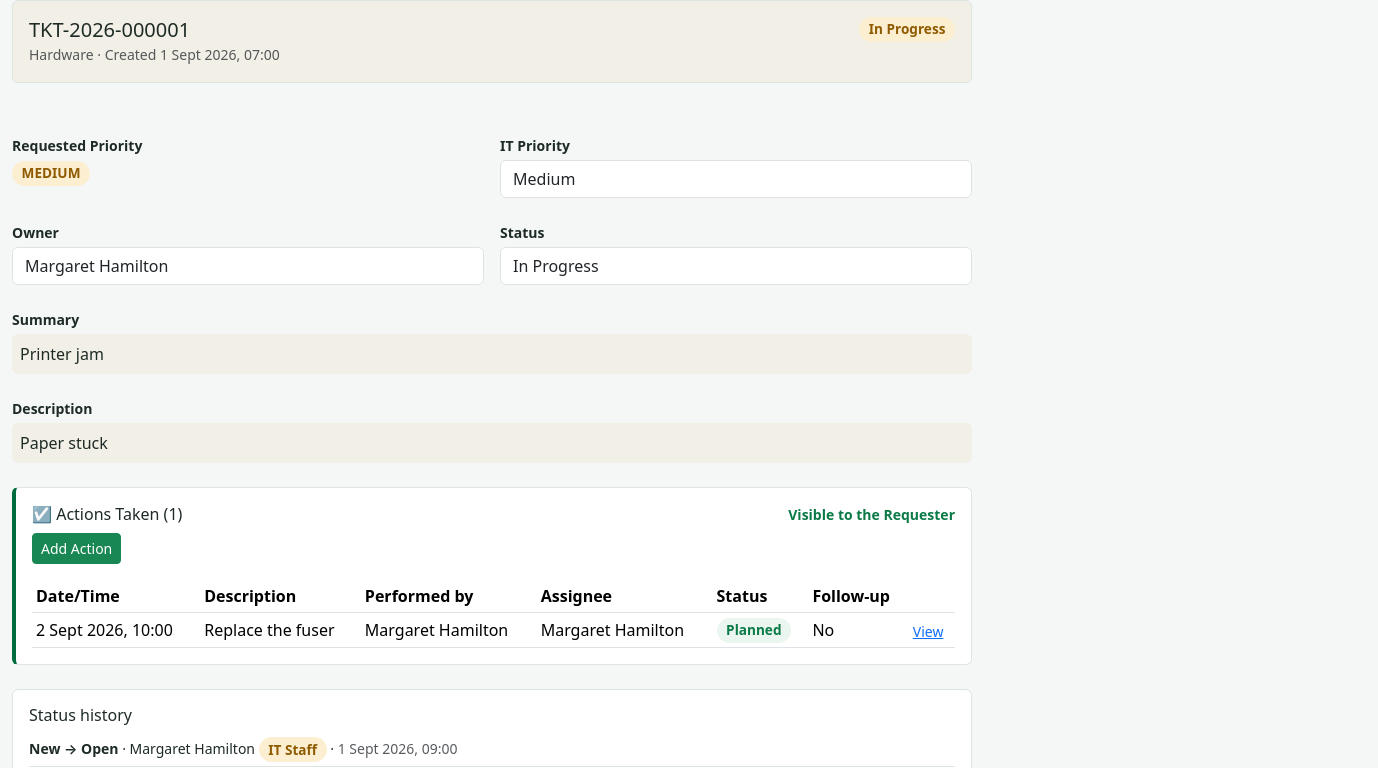
Test case: Ticket workflow controls › UI-18 refreshes the badge, the options, and the history after a successful change, and announces it
Select "Waiting for Requester" in the dropdown labelled "Status" at (736, 266), box [500,247,972,285]
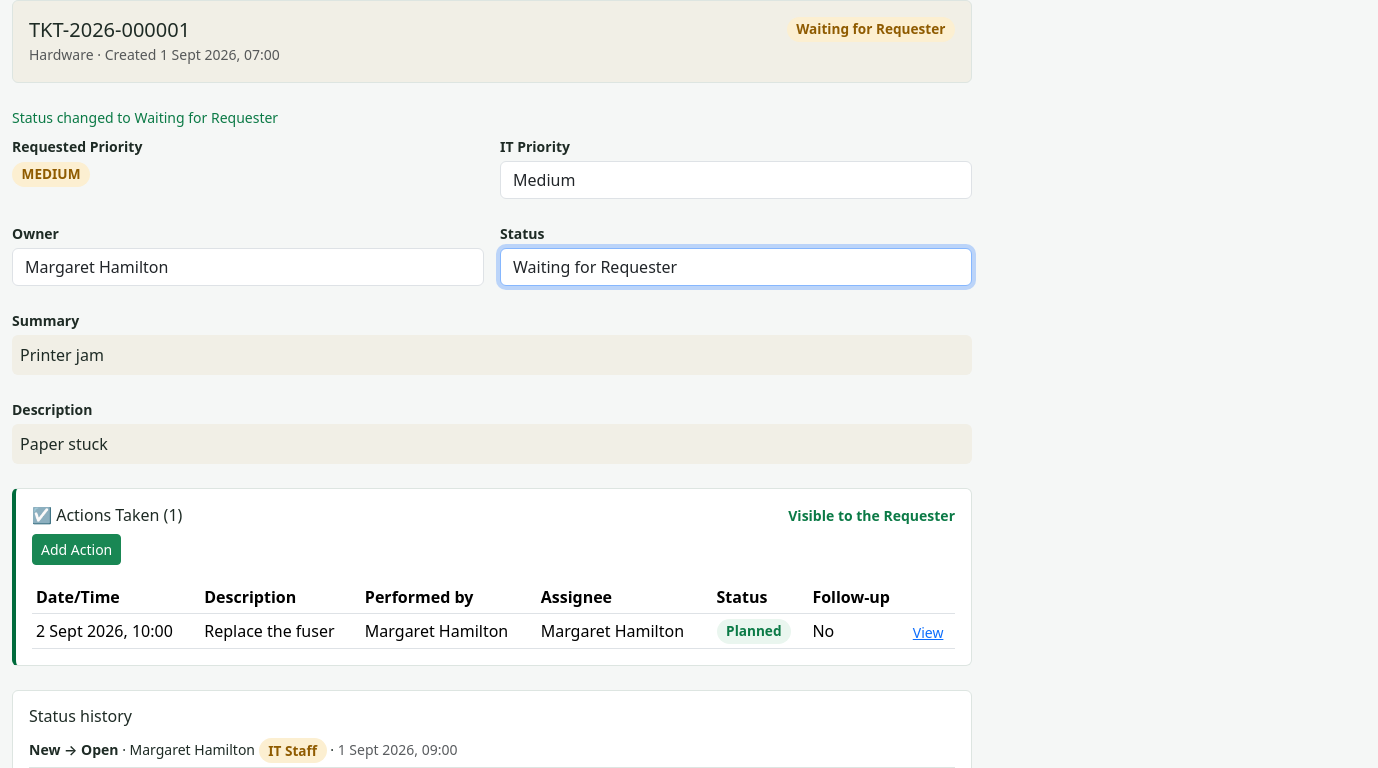
Now the text "Status changed to Waiting for Requester" is shown, box [12,108,278,127]
